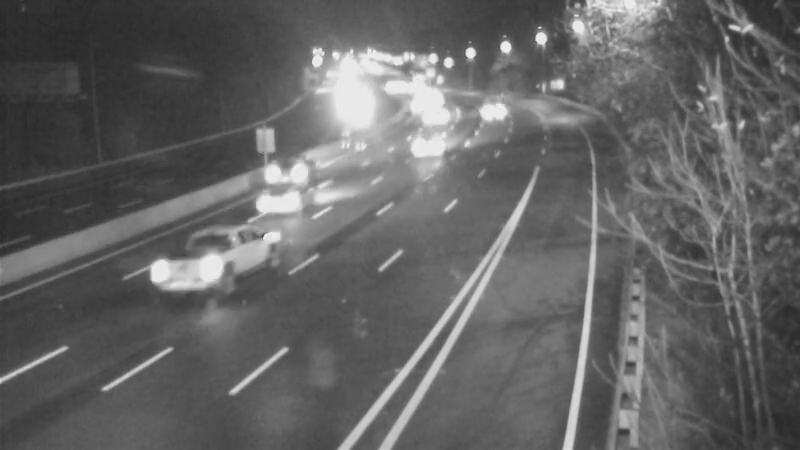vehicle: (246, 133, 326, 213), (242, 160, 322, 240), (146, 217, 226, 297), (393, 72, 443, 122), (464, 84, 514, 134), (412, 88, 462, 138), (402, 120, 452, 170)
